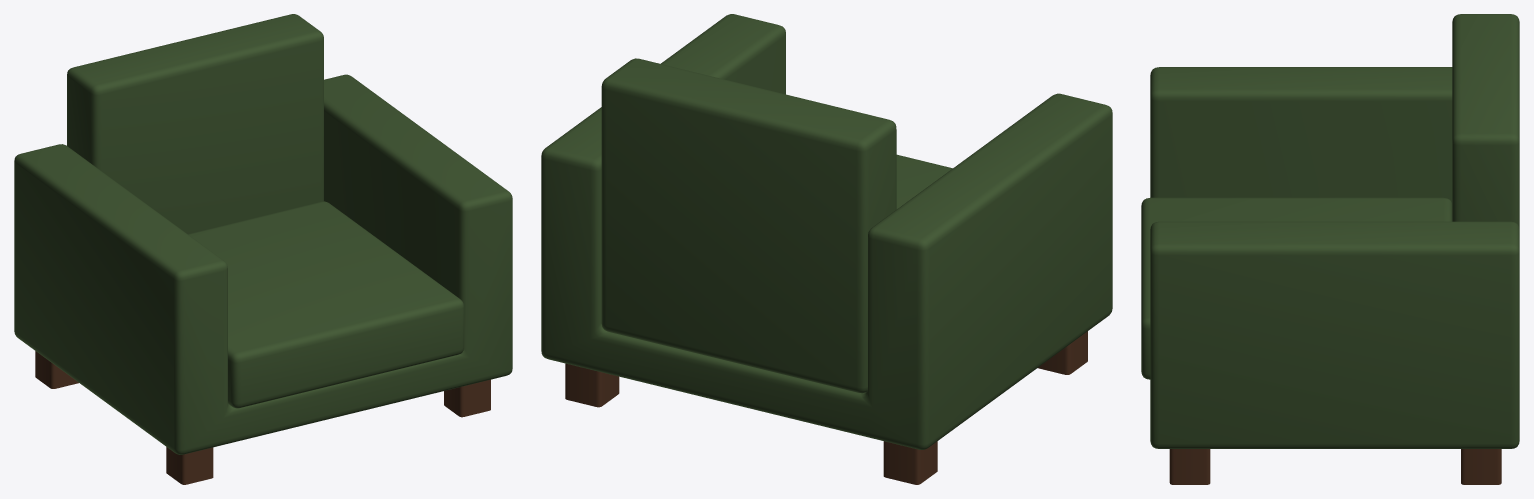
File: Armchair.fbx
The picture shows the model from 3 angles, left to right: view 1: azimuth 30°, elevation 25°; view 2: azimuth 150°, elevation 25°; view 3: azimuth 270°, elevation 25°; orthographic projection. The views are drawn at different scales.
Visible parts, largest first — view 1: Box117, Column_stanick022; view 2: Box117, Column_stanick022; view 3: Box117, Column_stanick022.
Part boxes in pixels (x1,y1,x2,y2): Box117: (14, 14, 512, 454); Column_stanick022: (35, 351, 490, 484); Box117: (541, 14, 1112, 449); Column_stanick022: (565, 331, 1087, 484); Box117: (1141, 14, 1519, 448); Column_stanick022: (1169, 449, 1501, 484).
Bounding box in the file's own units: 961 × 840 × 800.
